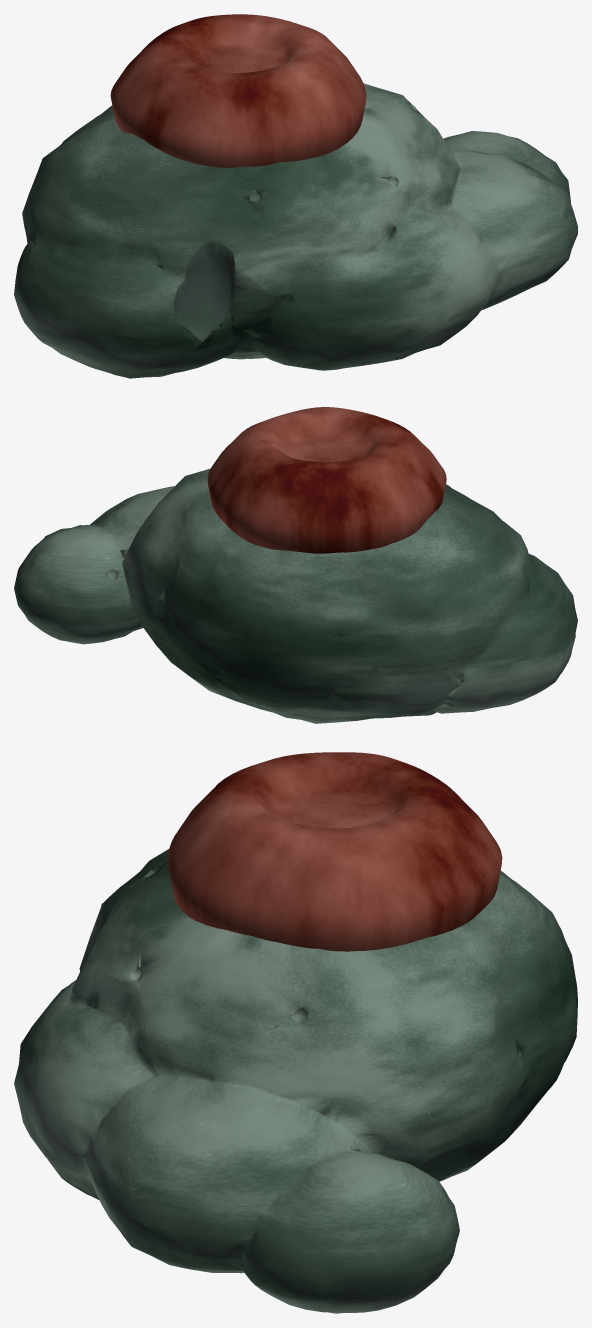
The picture shows the model from 3 angles, top to bottom: view 1: azimuth 30°, elevation 25°; view 2: azimuth 150°, elevation 25°; view 3: azimuth 270°, elevation 25°; orthographic projection. The views are drawn at different scales.
Parts seen in each view (by area): view 1: Capacitors connected irregular ore mound, Capacitors seated reddish copper crown; view 2: Capacitors connected irregular ore mound, Capacitors seated reddish copper crown; view 3: Capacitors connected irregular ore mound, Capacitors seated reddish copper crown.
Part boxes in pixels (x1,y1,x2,y2): Capacitors connected irregular ore mound: (14,83,577,378); Capacitors seated reddish copper crown: (110,14,366,167); Capacitors connected irregular ore mound: (14,468,577,723); Capacitors seated reddish copper crown: (207,407,446,553); Capacitors connected irregular ore mound: (14,849,577,1313); Capacitors seated reddish copper crown: (167,752,502,951).
Bounding box in the file's own units: 1.74 × 0.7801 × 1.18.
4 materials, 3 textured.
